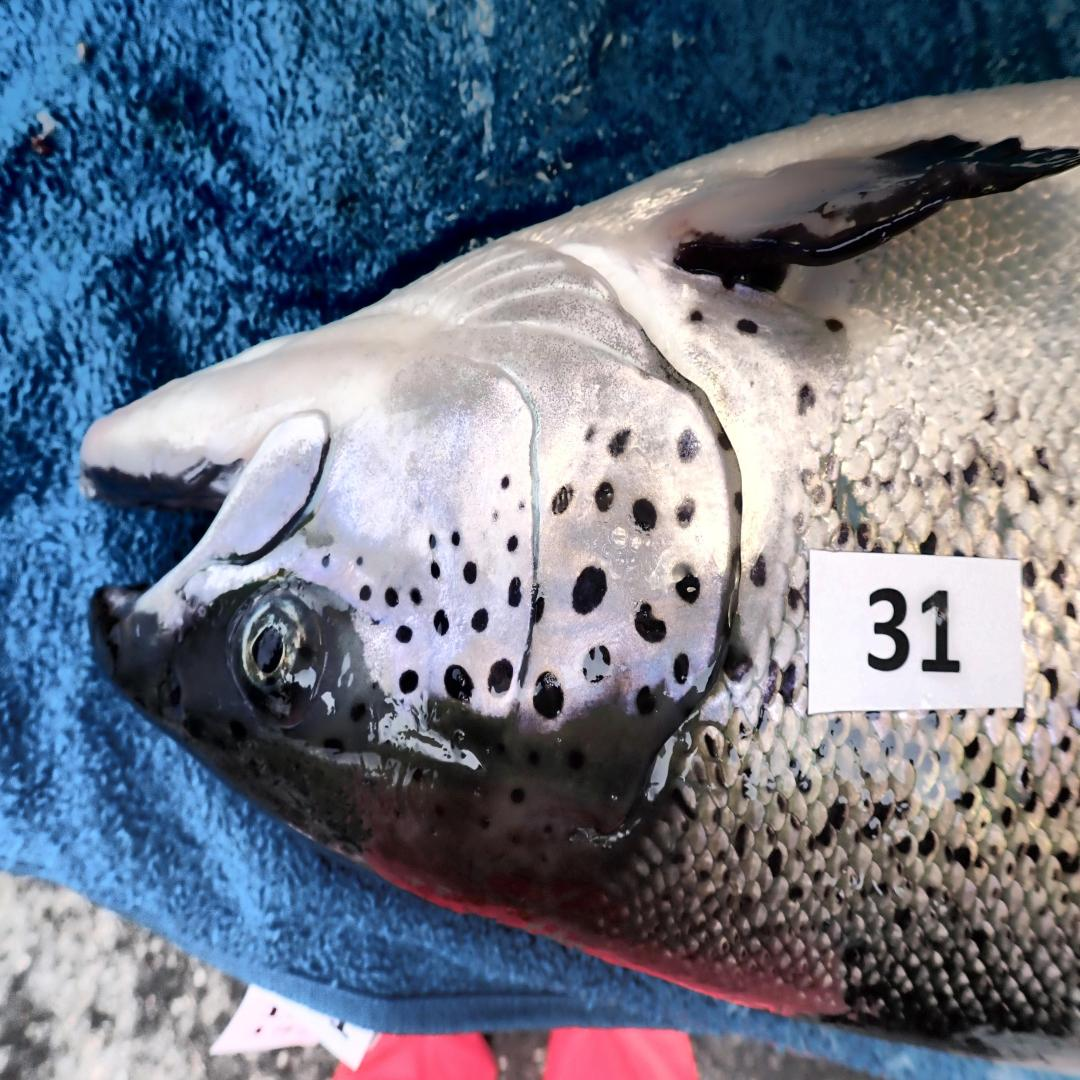spot: (572, 565, 608, 613), (534, 672, 563, 717), (635, 602, 667, 641), (671, 562, 700, 605), (582, 644, 610, 683), (445, 664, 472, 703), (487, 658, 513, 695), (633, 498, 656, 532), (677, 430, 700, 461), (608, 428, 631, 458), (551, 487, 574, 515), (595, 481, 614, 512), (635, 686, 656, 714), (677, 498, 696, 526), (673, 652, 690, 683), (399, 669, 418, 695), (470, 608, 489, 633), (532, 585, 544, 624), (508, 577, 521, 608), (435, 610, 449, 636), (384, 588, 399, 608), (464, 562, 477, 585), (397, 624, 411, 644), (718, 429, 732, 449), (584, 425, 597, 442), (506, 534, 519, 551), (409, 588, 422, 605), (359, 585, 371, 602), (734, 491, 742, 515), (430, 562, 441, 579), (500, 475, 510, 489), (321, 554, 331, 568), (451, 532, 460, 546), (428, 534, 437, 548), (371, 617, 381, 625), (492, 510, 498, 522), (518, 500, 525, 509), (356, 557, 363, 565)
